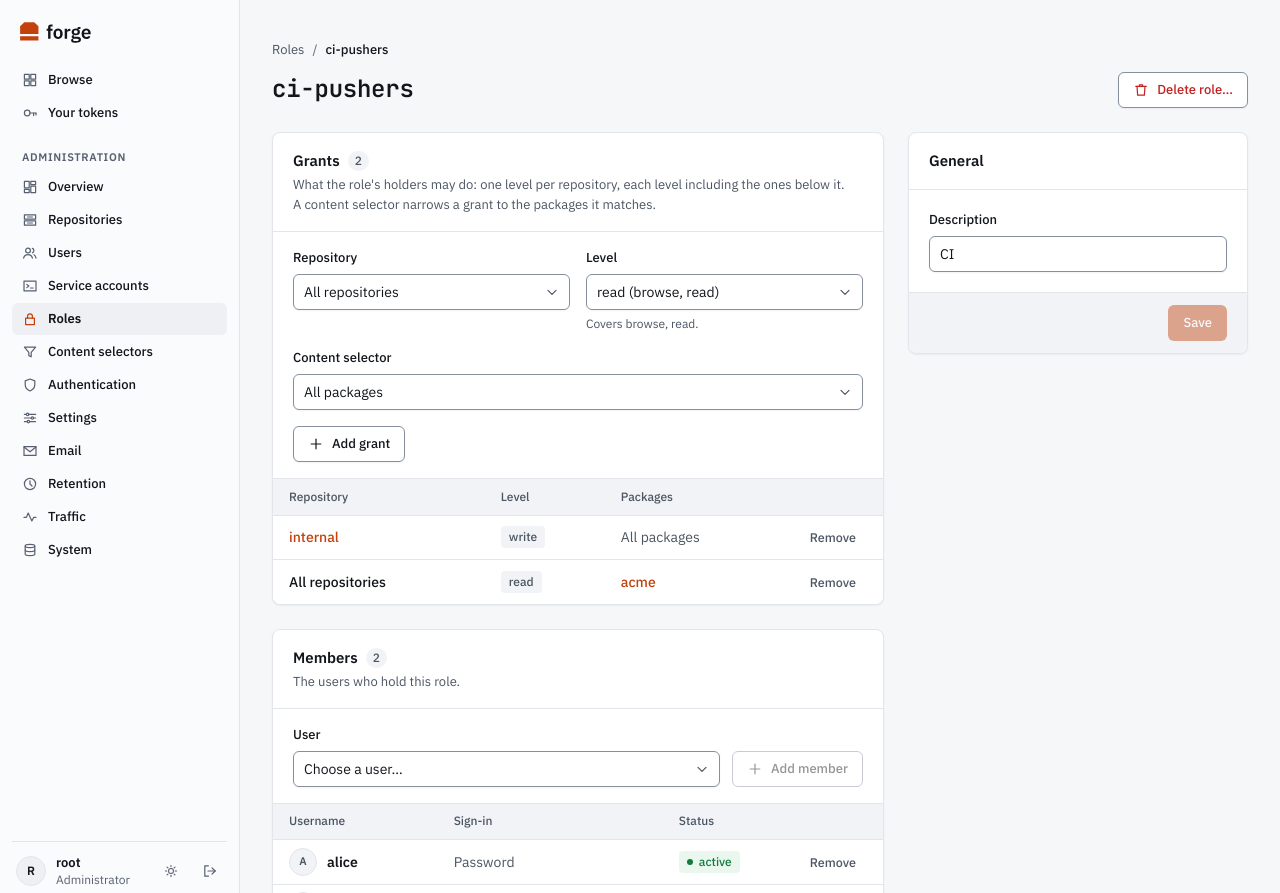
Scenario: admin roles › removes a grant
Click the button "Remove" in the row of "internal" at [833, 537], box [799,523,867,551]
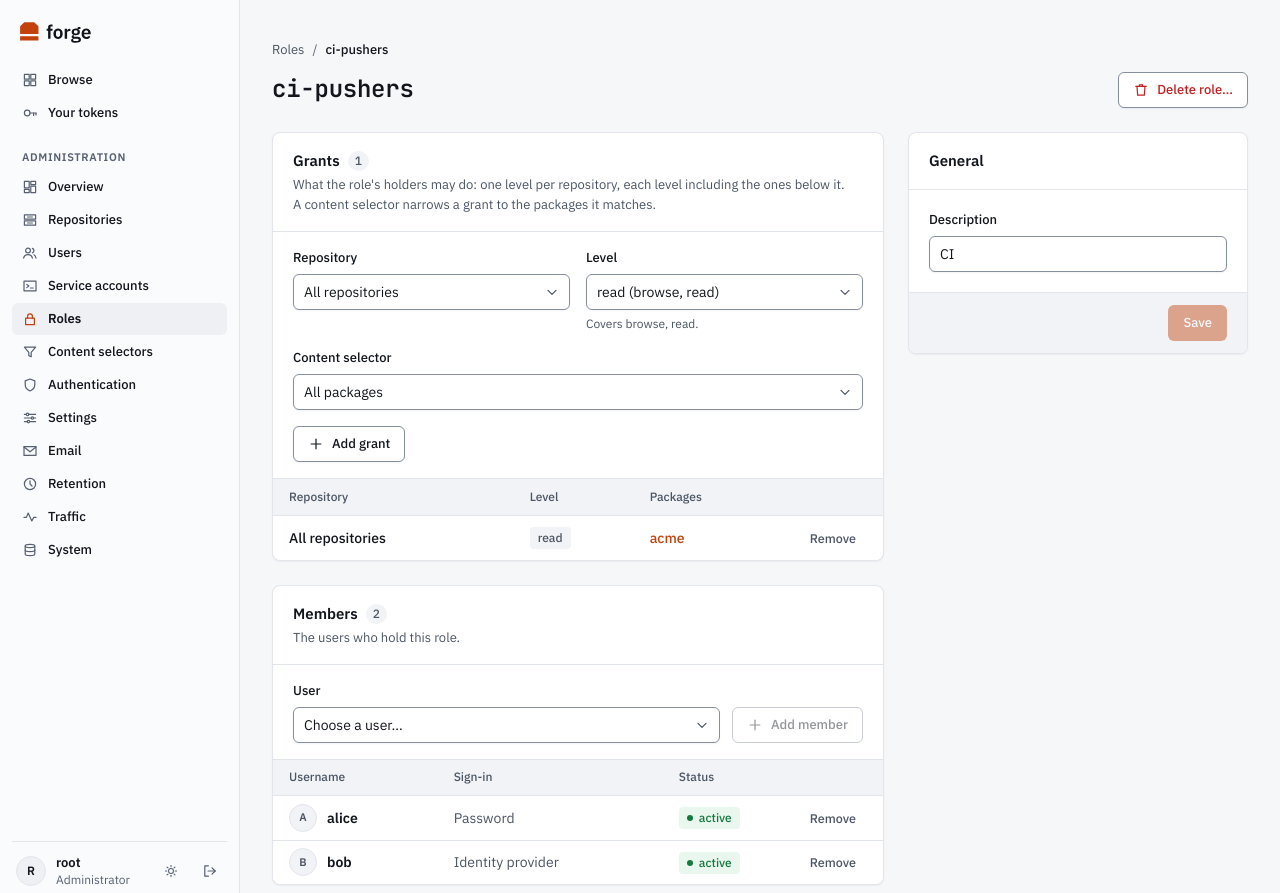
Now the text "write" is gone
